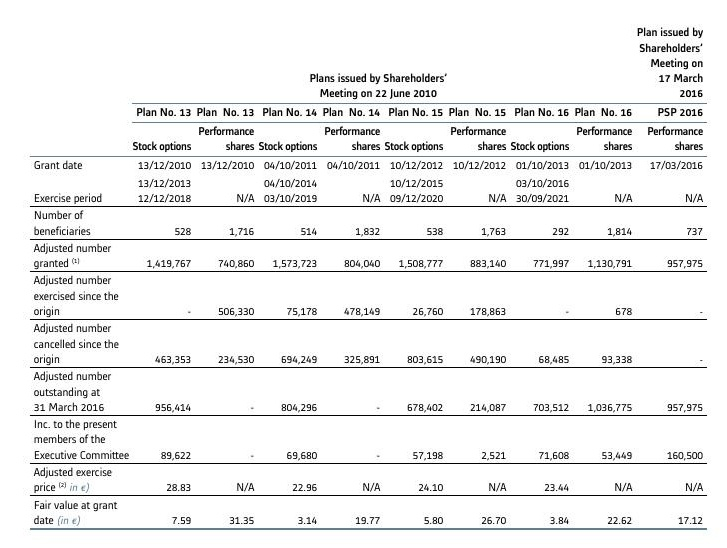table: (0, 0, 727, 548)
